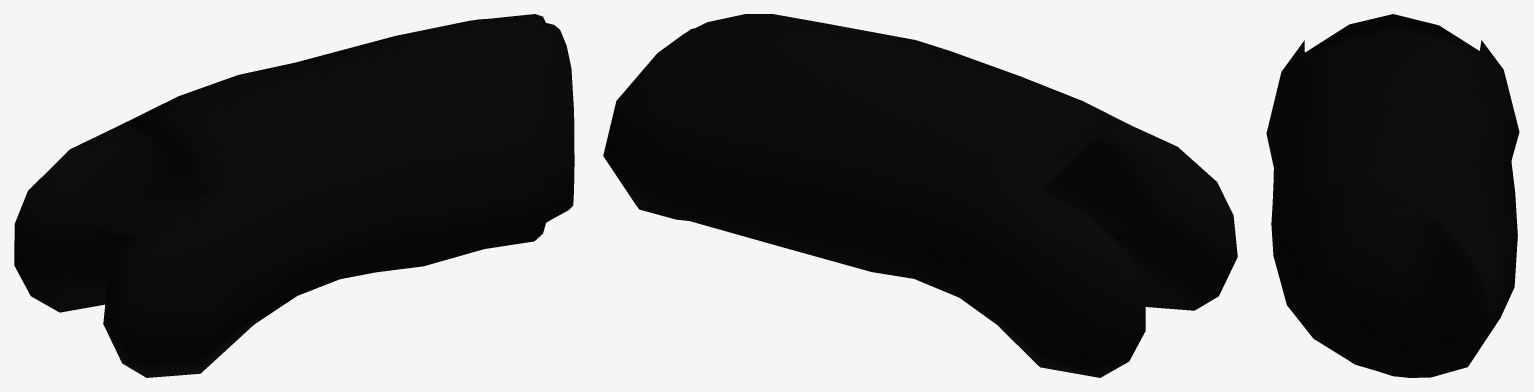
The model's file is LShoulderRoll.obj.
The picture shows the model from 3 angles, left to right: view 1: azimuth 30°, elevation 25°; view 2: azimuth 150°, elevation 25°; view 3: azimuth 270°, elevation 25°; orthographic projection. The views are drawn at different scales.
Size of the model in its own units: 2.04 by 0.8583 by 0.8511.
